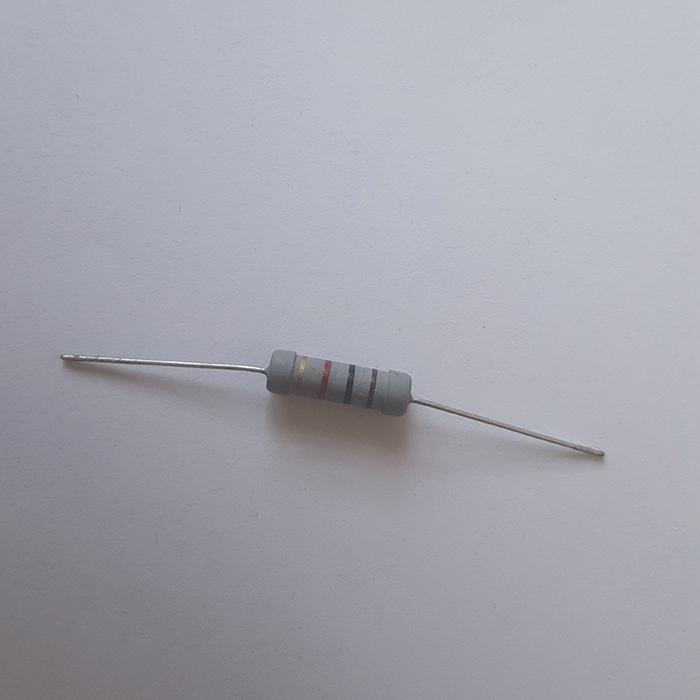resistor: (263, 348, 414, 416)
